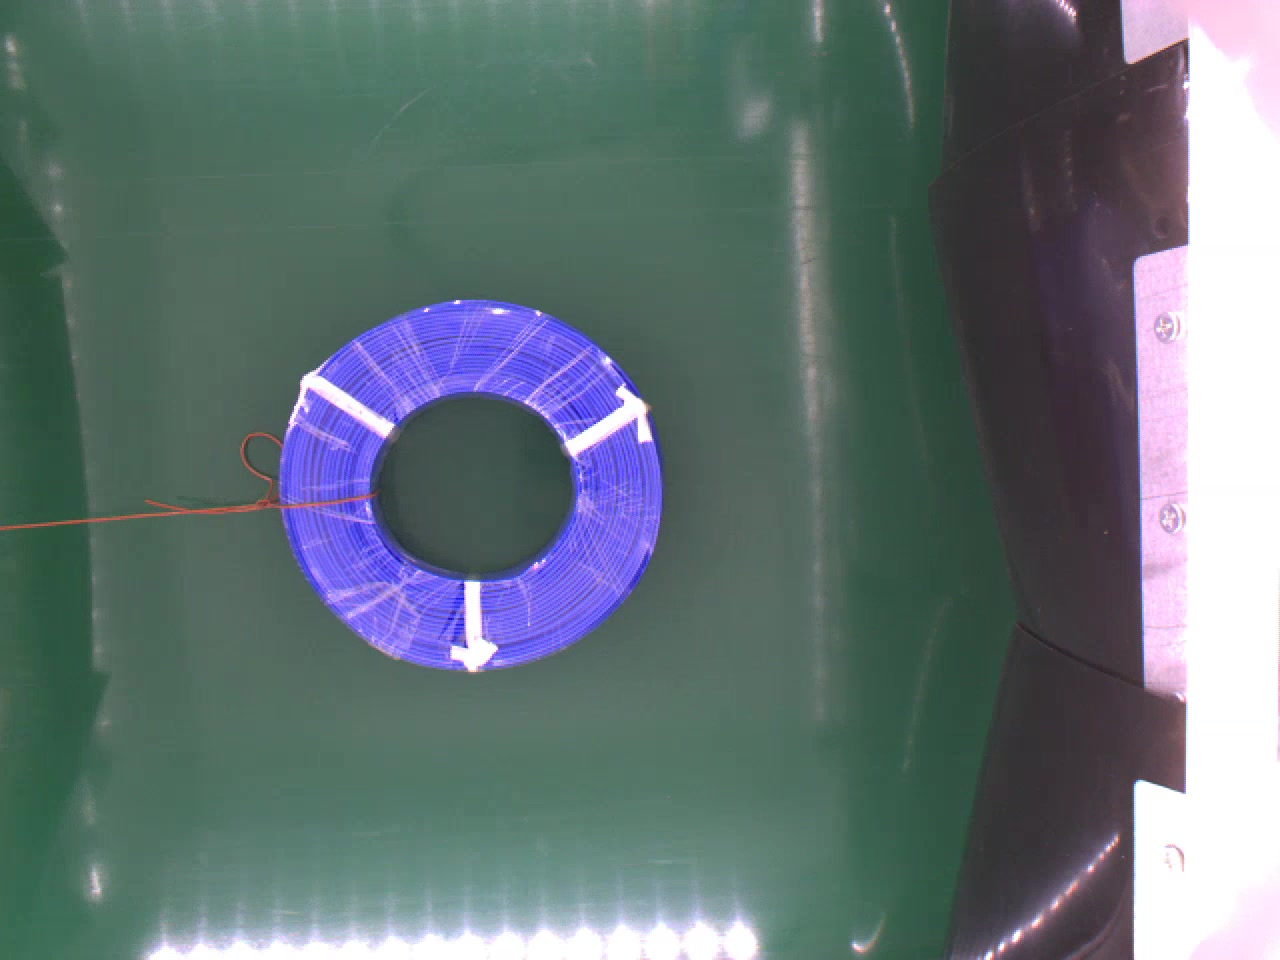blue: (280, 284, 676, 665)
